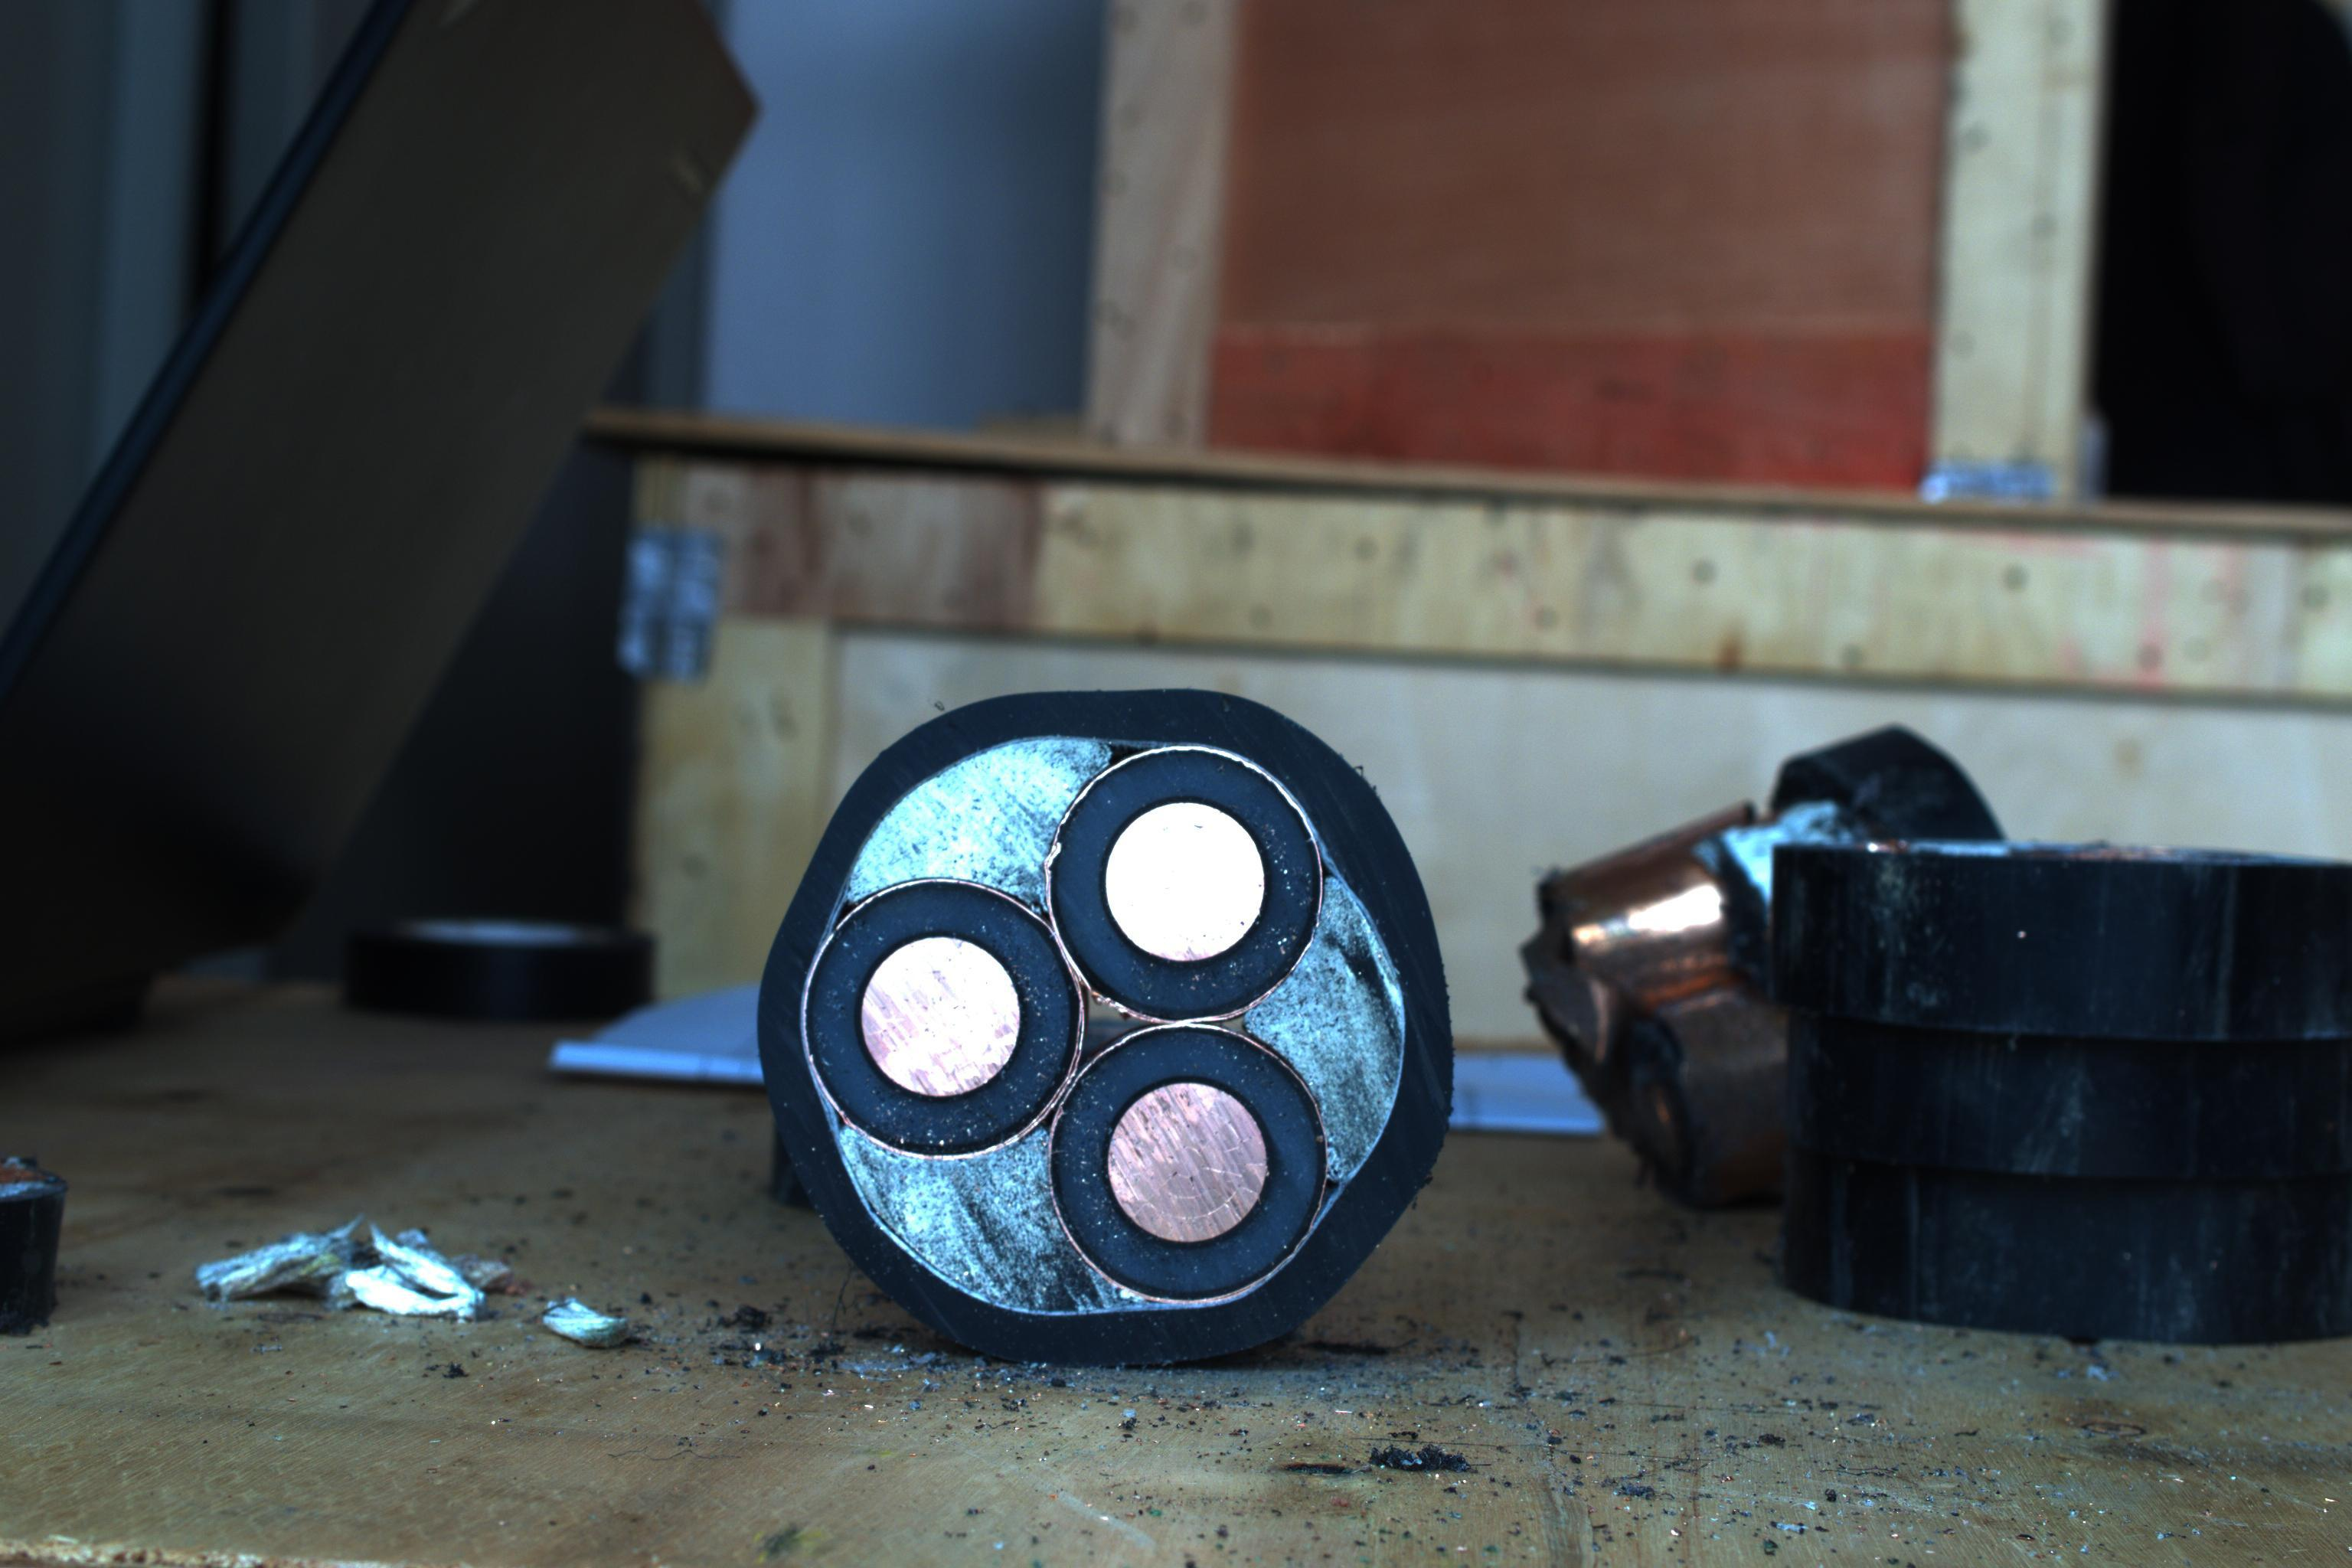ZA_YJV_8.7_10kV_3x240: (772, 698, 1477, 1398)
